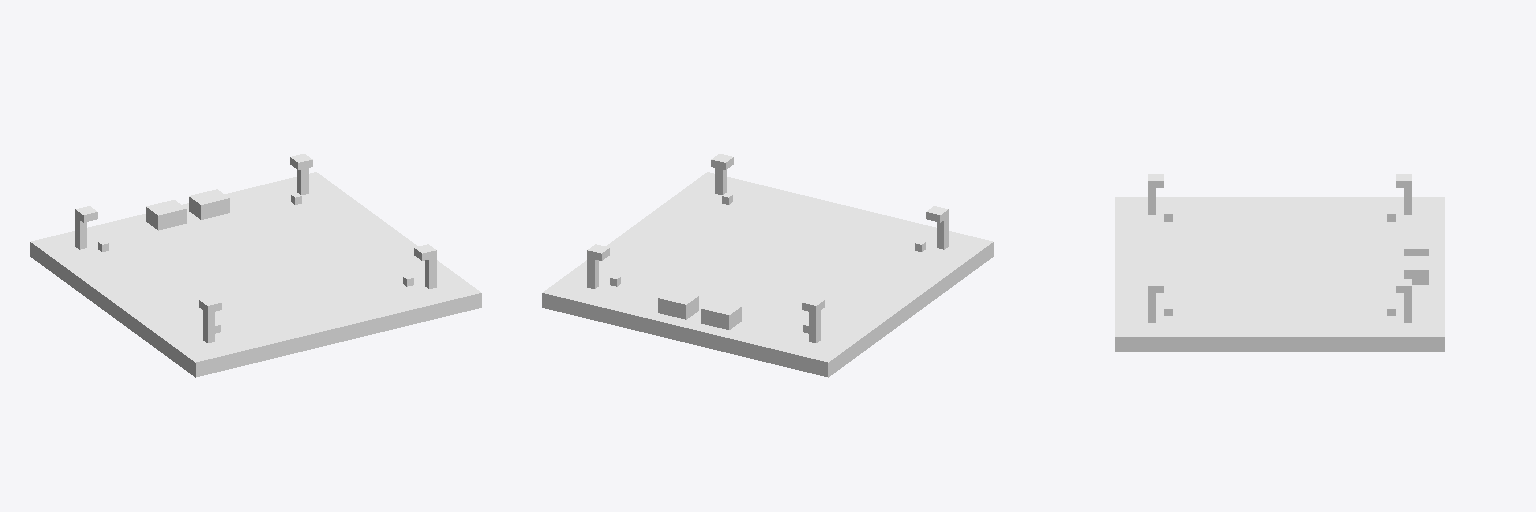
Rendered from helipuerto.obj.
3 renders of one model, left to right at view 1: azimuth 30°, elevation 25°; view 2: azimuth 150°, elevation 25°; view 3: azimuth 270°, elevation 25°, orthographic.
Visible parts, largest first — view 1: object 1; view 2: object 1; view 3: object 1.
Part boxes in pixels (x1,y1,x2,y2): object 1: (30,154,481,377); object 1: (542,154,993,377); object 1: (1115,174,1444,351).
Size of the model in its own units: 4 by 0.7 by 4.